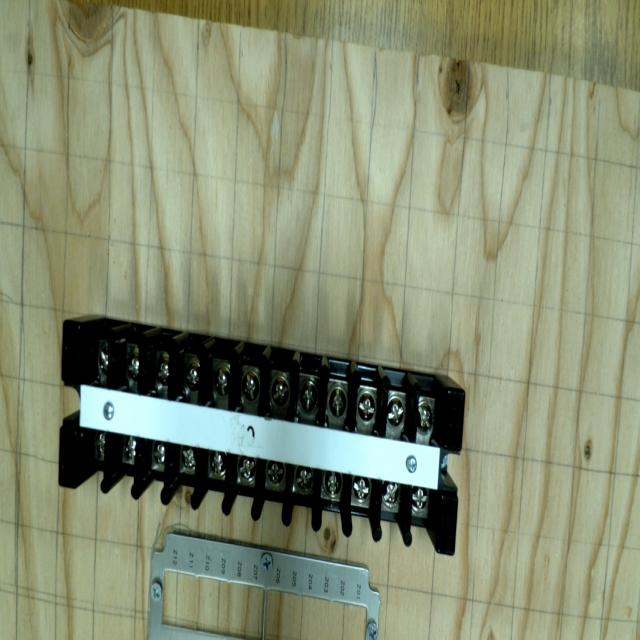Phillips_Block: (36, 322, 482, 555)
